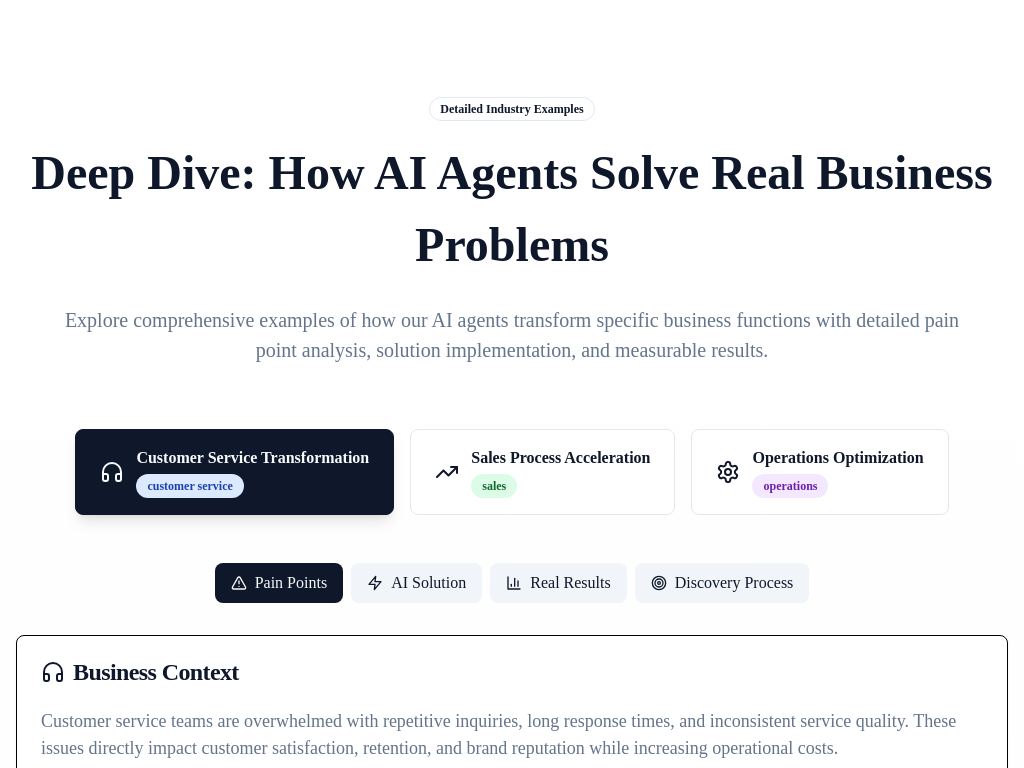
Test: DetailedIndustryExamples › switches between tabs
Note: Click on AI Solution tab
Click the button "AI Solution".
click(417, 583)  # box [351,563,482,603]
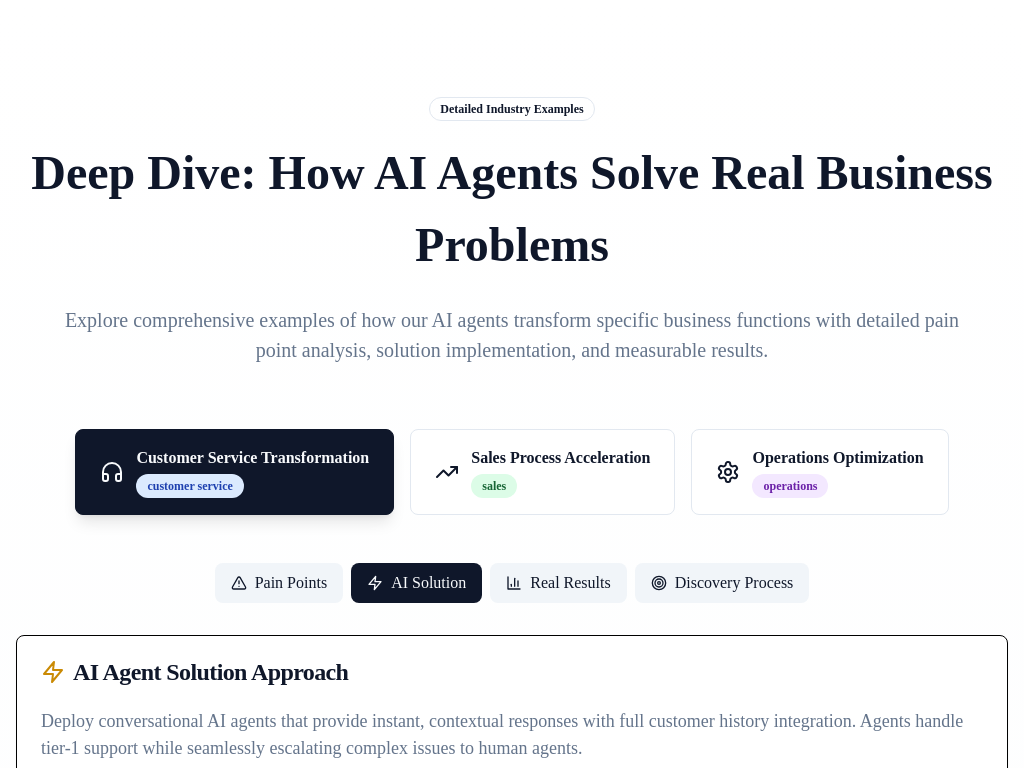
Now the text "AI Agent Solution Approach" is shown, box [41,659,348,685]
